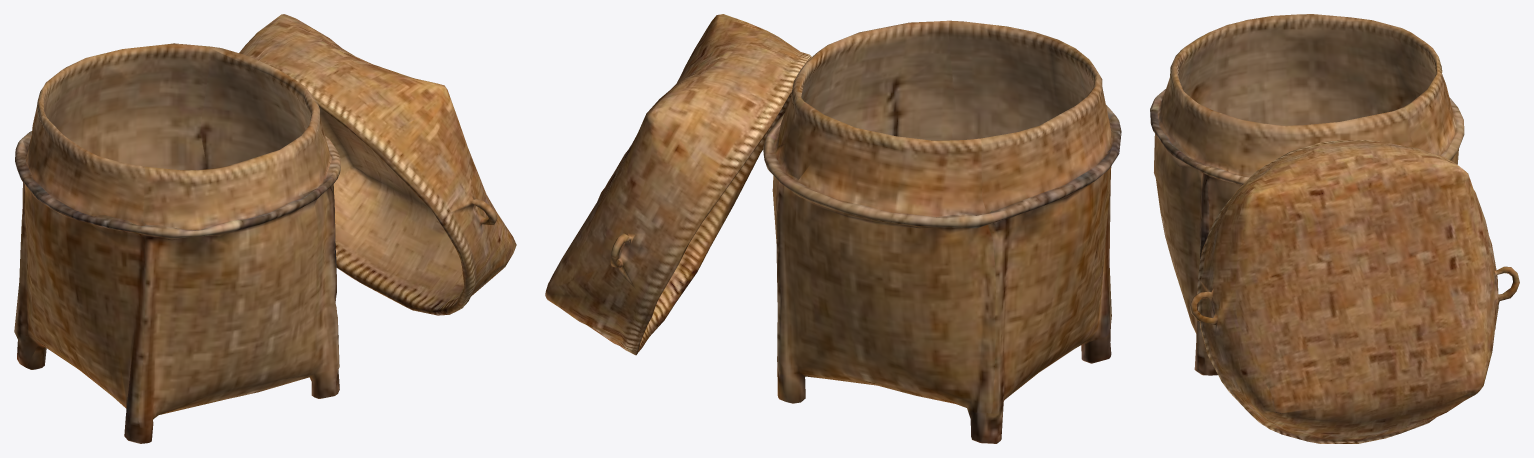
File: wicker_basket_02.glb
3 renders of one model, left to right at view 1: azimuth 30°, elevation 25°; view 2: azimuth 150°, elevation 25°; view 3: azimuth 270°, elevation 25°, orthographic. The views are drawn at different scales.
Visible parts, largest first — view 1: wicker_basket_02_base; view 2: wicker_basket_02_base; view 3: wicker_basket_02_base.
Boxes of the visible parts, box(x1,y1,x2,y2) form: wicker_basket_02_base: box(14, 14, 516, 443); wicker_basket_02_base: box(545, 14, 1121, 443); wicker_basket_02_base: box(1150, 14, 1519, 443).
Size of the model in its own units: 0.3469 by 0.2004 by 0.2541.
1 material, 1 textured.
